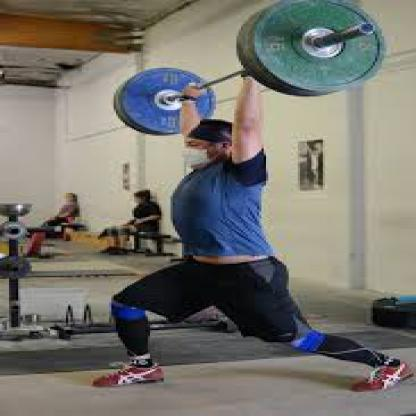Barbell: (359, 19, 382, 38)
